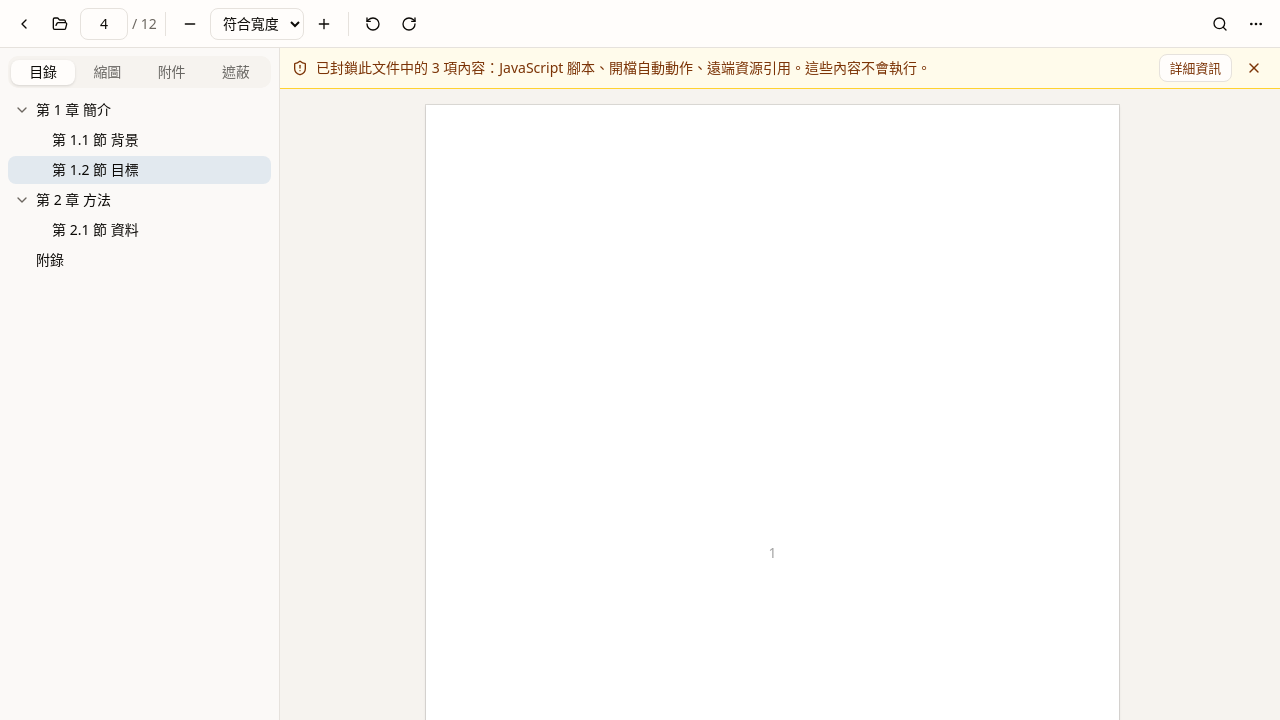
Test: open document › shows the blocked-content banner until dismissed
Expected: the element named "已封鎖內容警示" shows "已封鎖此文件中的 3 項內容：JavaScript 腳本、開檔自動動作、遠端資源引用。", top-left (316, 58), bottom-right (931, 77)
Click the button named "關閉警示" at [1254, 68], box top-left (1240, 54), bottom-right (1268, 82)
(page scrolled)
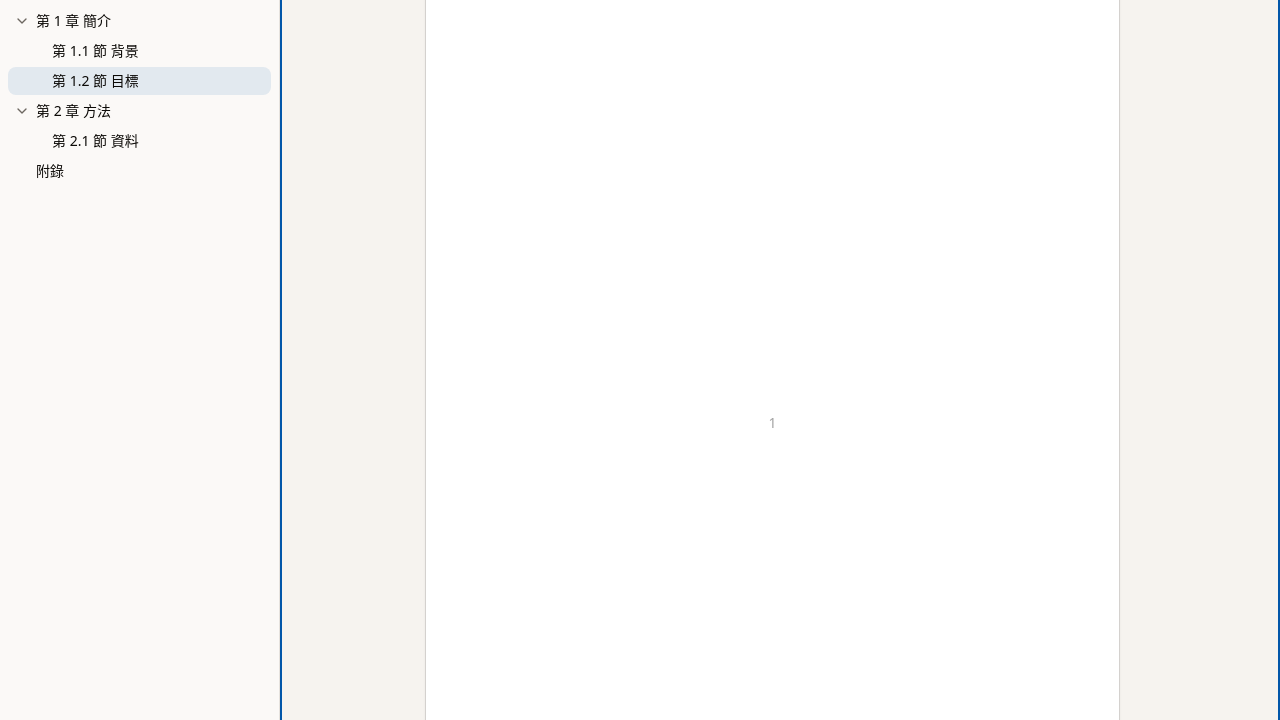
Expected: the element "已封鎖內容警示" is gone
